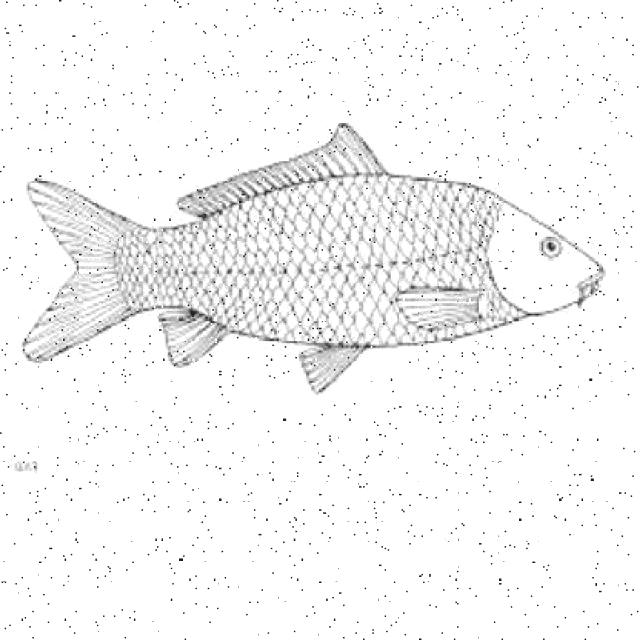ikan-mas: (18, 149, 614, 368)
